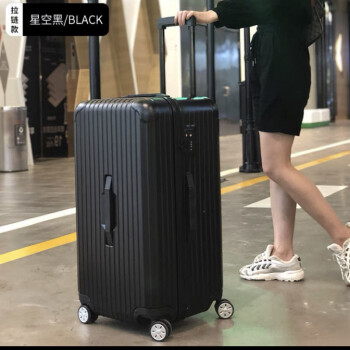box: (74, 96, 223, 326)
lock: (184, 129, 195, 156)
wheel: (149, 318, 173, 341), (77, 303, 98, 324), (215, 298, 234, 319)
